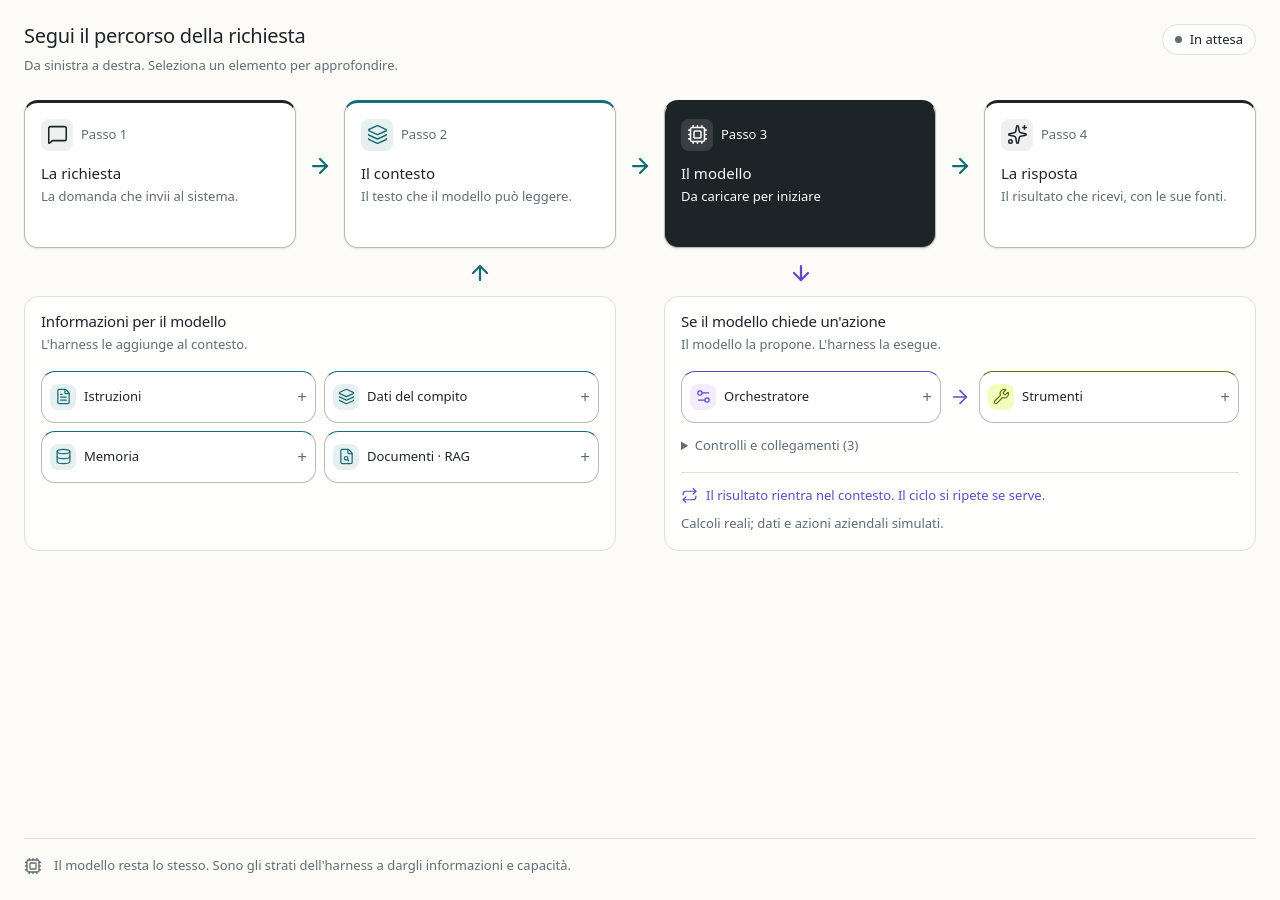
readable request flow › distinguishes model output from harness actions, supervision and the return path
The image size is (1280, 900).
Expected: the button with aria-label "Orchestratore. Apri i dettagli" is shown, x1=681 y1=371 x2=941 y2=423
Expected: the button with aria-label "Strumenti. Apri i dettagli" is shown, x1=979 y1=371 x2=1239 y2=423
Click the heading "Controlli e collegamenti (3)" at (777, 445), box x1=695 y1=436 x2=858 y2=454
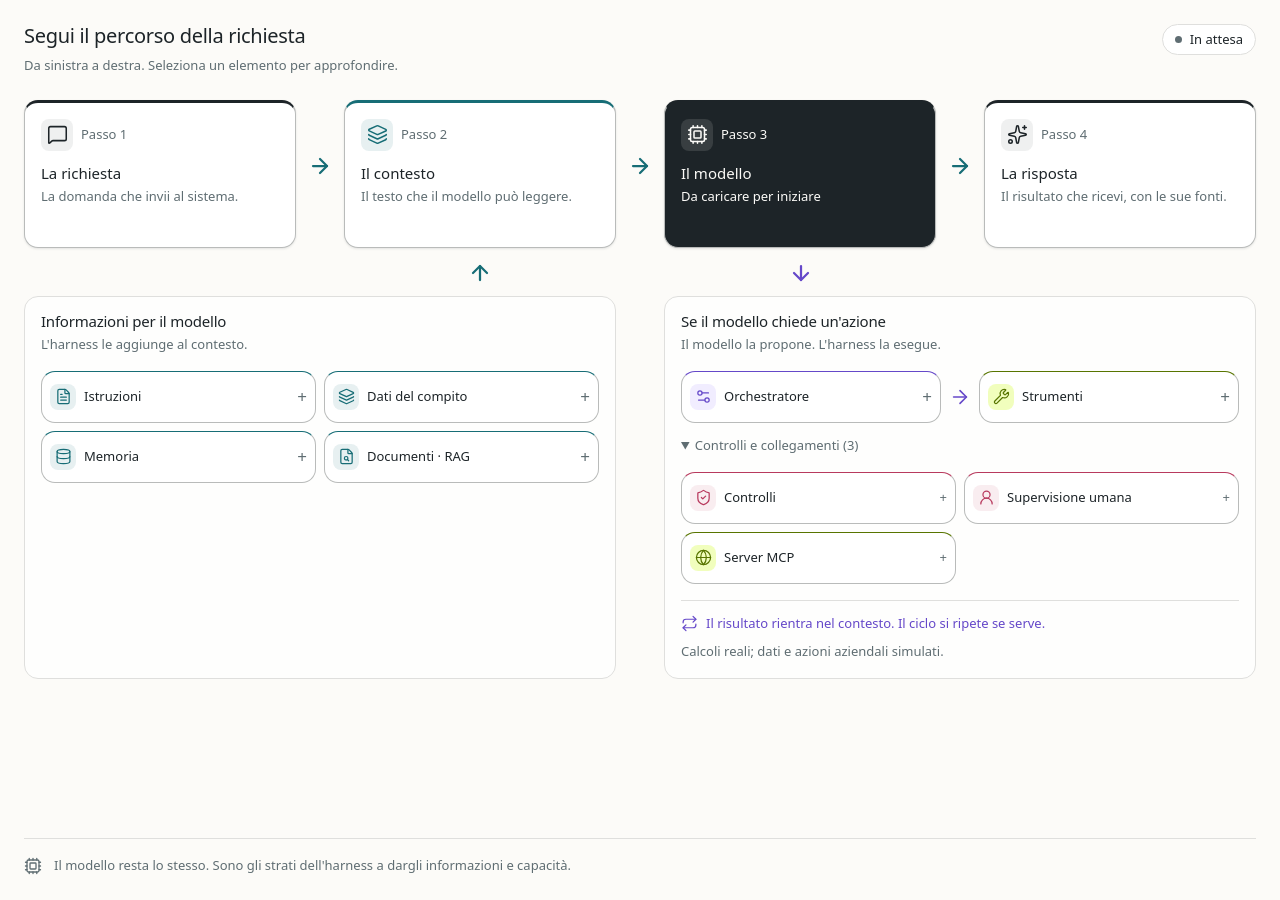
Result: the button with aria-label "Controlli. Apri i dettagli" is shown at x1=681 y1=472 x2=956 y2=524
Result: the button with aria-label "Supervisione umana. Apri i dettagli" is shown at x1=964 y1=472 x2=1239 y2=524
Result: the button with aria-label "Server MCP. Apri i dettagli" is shown at x1=681 y1=532 x2=956 y2=584
